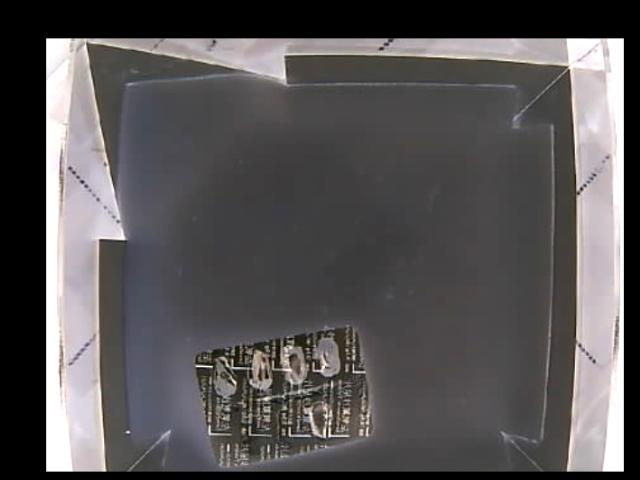Medicine: (196, 326, 374, 468)
